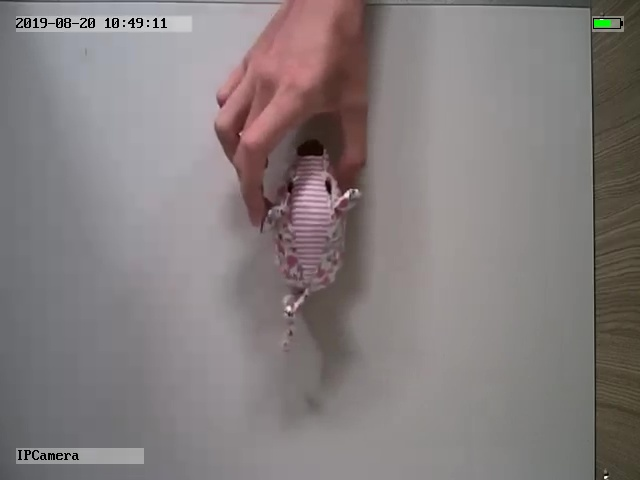pig: (261, 138, 363, 350)
